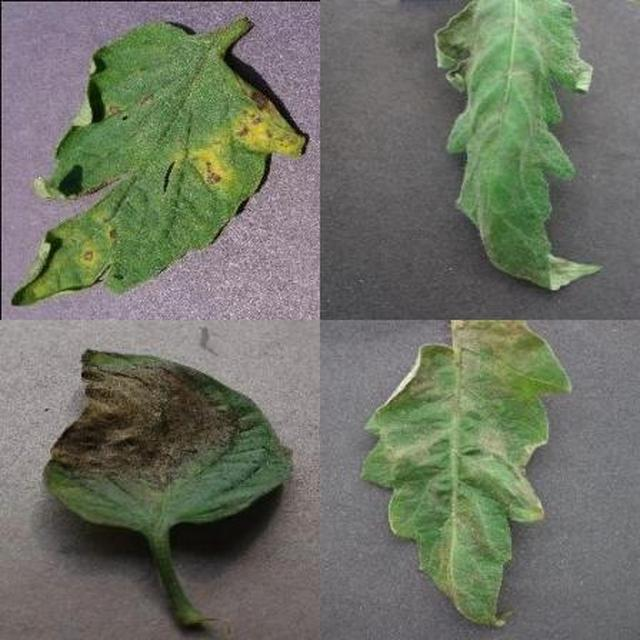Septoria Leaf: (224, 209, 640, 640)
